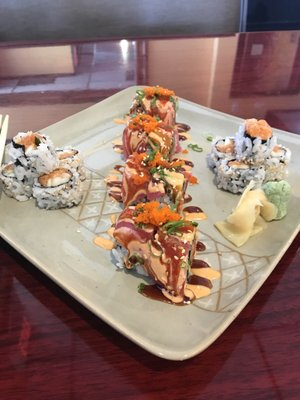soup: (111, 198, 214, 304)
